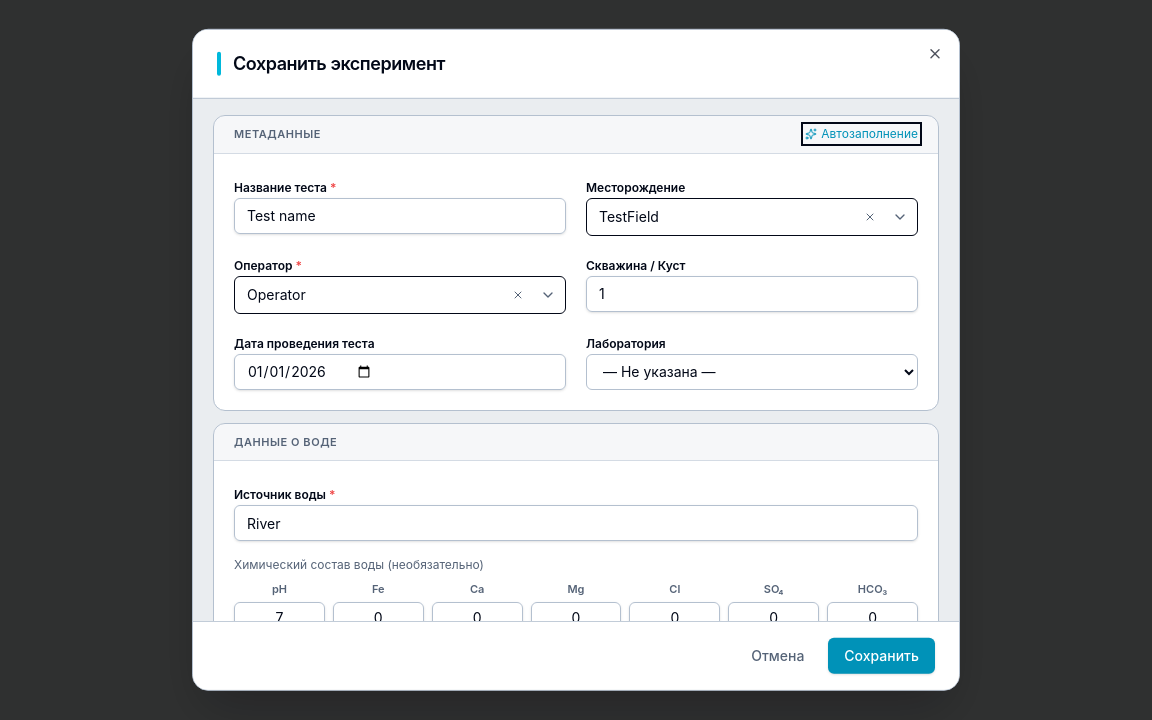
Test: SaveExperimentDialog › shows field path in validation error message for enum mismatch
The width and height of the screenshot is (1152, 720).
Click the button with test id "SaveDialogSaveButton": [882, 656] box [828,638,935,674]
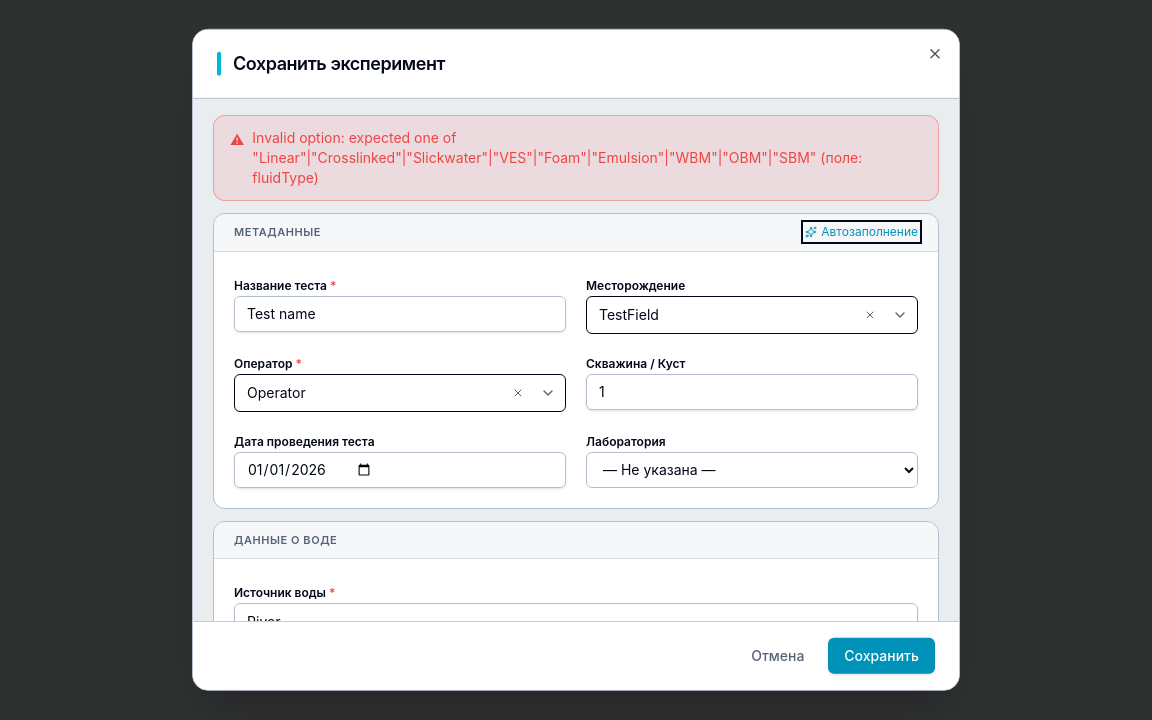
Expected: the text "поле:" is shown, [252,129,862,186]
